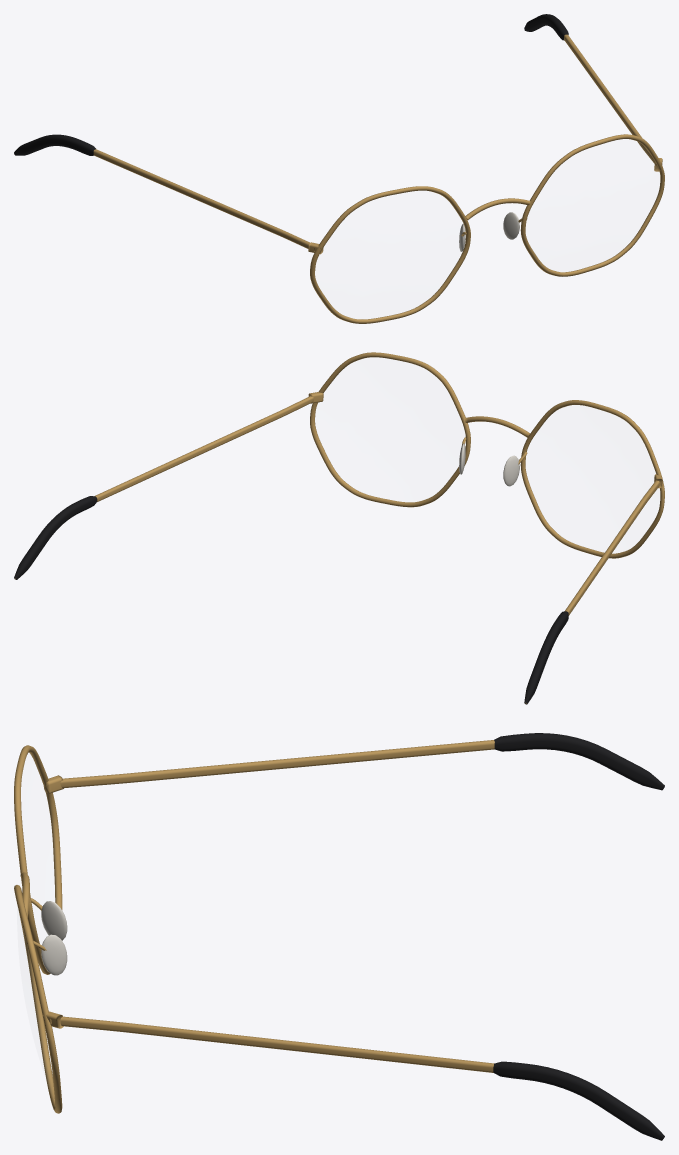
File: hexagon-wire.glb
The picture shows the model from 3 angles, top to bottom: view 1: azimuth 30°, elevation 25°; view 2: azimuth 150°, elevation 25°; view 3: azimuth 270°, elevation 25°; orthographic projection. The views are drawn at different scales.
Parts seen in each view (by area): view 1: glasses; view 2: glasses; view 3: glasses.
Boxes of the visible parts, x1,y1,x2,y2 form: glasses: (14,14,664,323); glasses: (14,352,664,704); glasses: (14,733,664,1140).
Size of the model in its own units: 0.1778 by 0.0462 by 0.1385.
2 materials, 1 textured.
